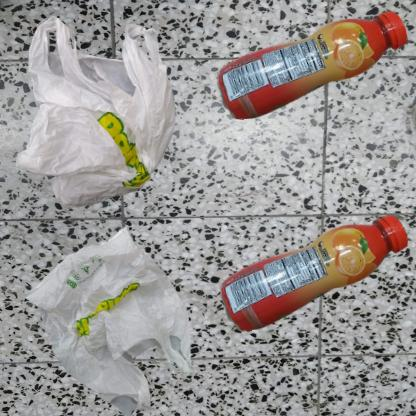bolsa: (10, 213, 215, 416), (10, 10, 192, 226)
botella: (213, 213, 416, 341), (213, 10, 416, 125)
